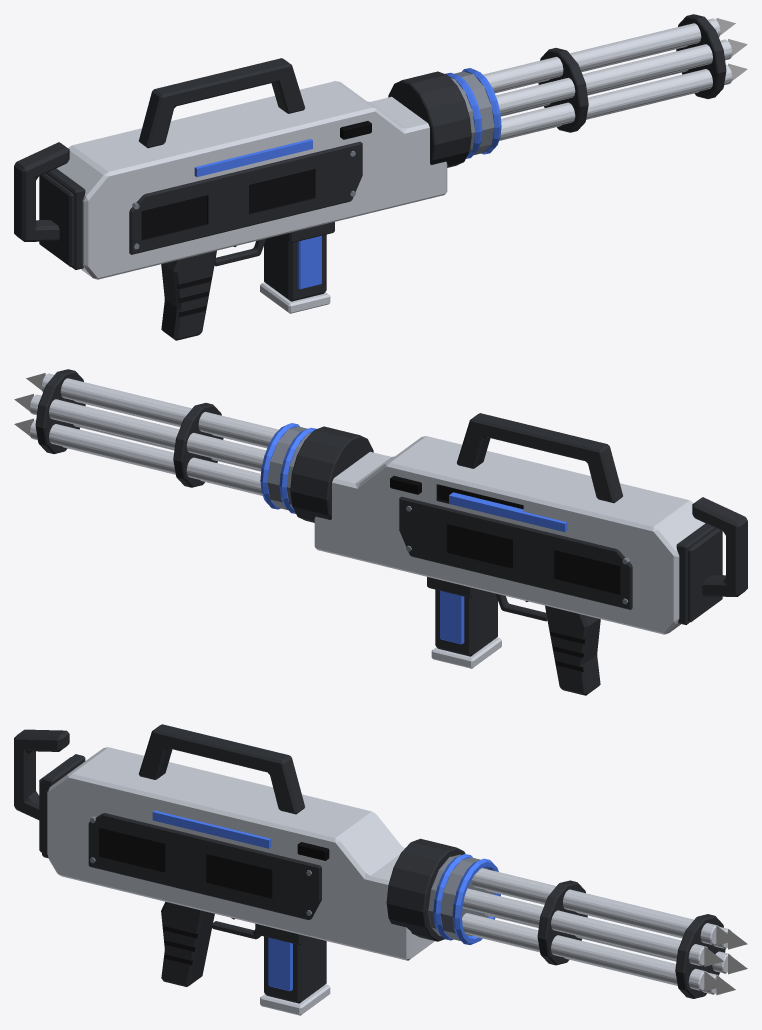
The model's file is ion_minigun42.obj.
The picture shows the model from 3 angles, top to bottom: view 1: azimuth 30°, elevation 25°; view 2: azimuth 150°, elevation 25°; view 3: azimuth 330°, elevation 25°; orthographic projection.
Visible parts, largest first — view 1: body, cluster, mag; view 2: body, cluster, mag; view 3: body, cluster, mag.
Boxes of the visible parts, x1,y1,x2,y2 form: body: [14, 58, 501, 340]; cluster: [450, 14, 732, 154]; mag: [260, 234, 330, 313]; body: [260, 413, 747, 695]; cluster: [29, 369, 311, 509]; mag: [431, 589, 501, 668]; body: [14, 724, 500, 986]; cluster: [428, 854, 731, 998]; mag: [260, 936, 330, 1015].
Size of the model in its own units: 0.7509 by 0.247 by 0.0874.
